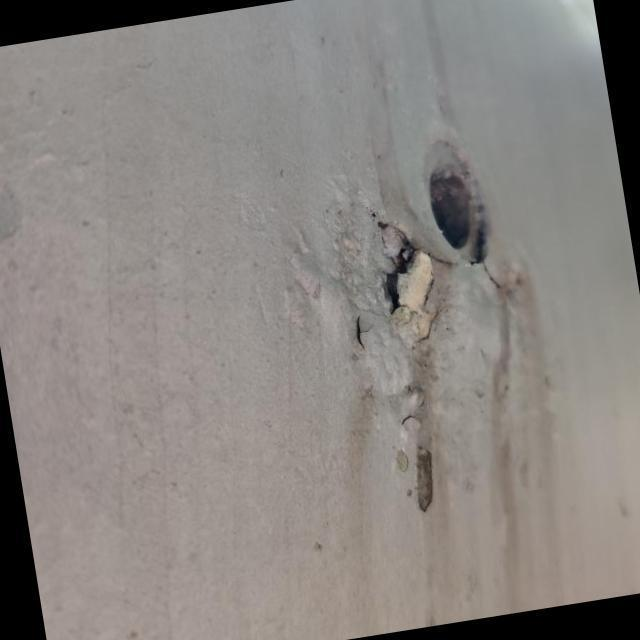Rupture: (315, 181, 486, 367)
